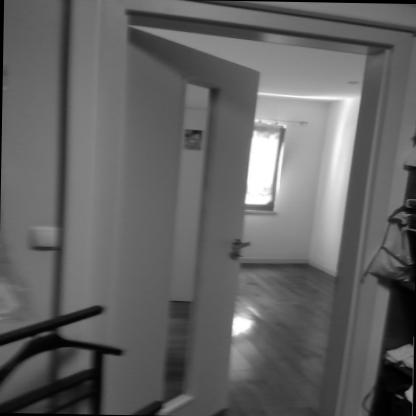semi: (65, 0, 412, 416)
